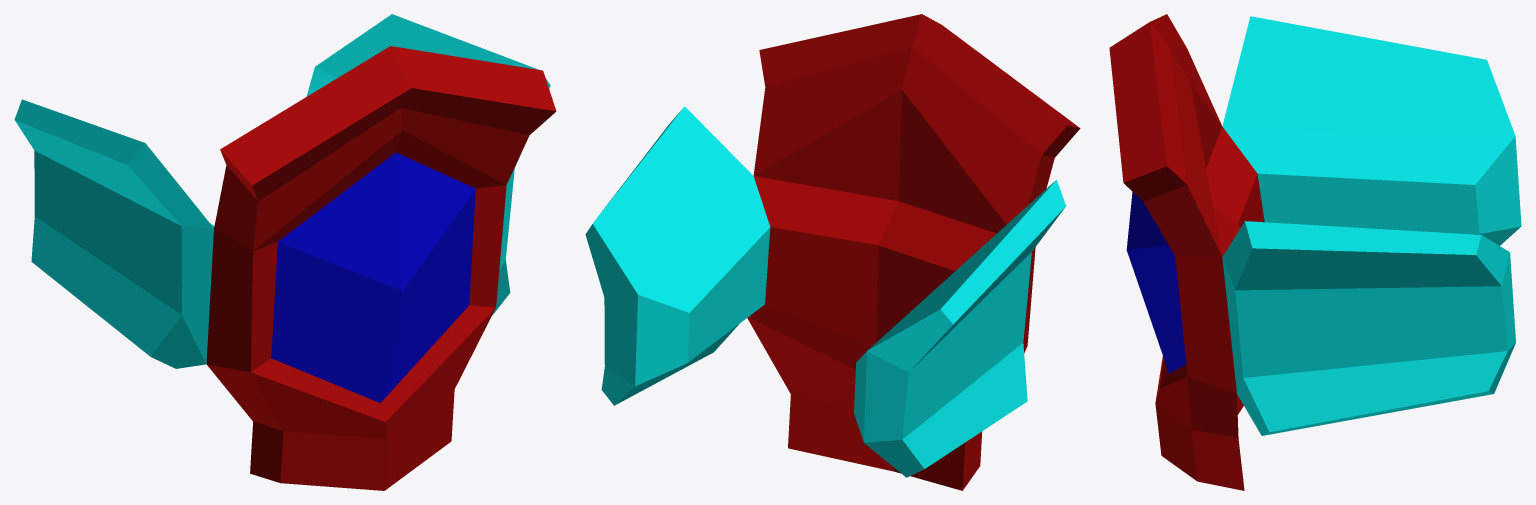
The model's file is Chr_KneeAttachLeft_Static_07.fbx.
3 views of the same model, side by side, from view 1: azimuth 30°, elevation 25°; view 2: azimuth 150°, elevation 25°; view 3: azimuth 270°, elevation 25° (orthographic). The views are drawn at different scales.
Parts seen in each view (by area): view 1: Chr_KneeAttachLeft_07; view 2: Chr_KneeAttachLeft_07; view 3: Chr_KneeAttachLeft_07.
Part boxes in pixels (x1,y1,x2,y2): Chr_KneeAttachLeft_07: [14, 14, 556, 490]; Chr_KneeAttachLeft_07: [585, 14, 1080, 490]; Chr_KneeAttachLeft_07: [1109, 14, 1521, 490].
Bounding box in the file's own units: 22 × 22.91 × 19.35.
